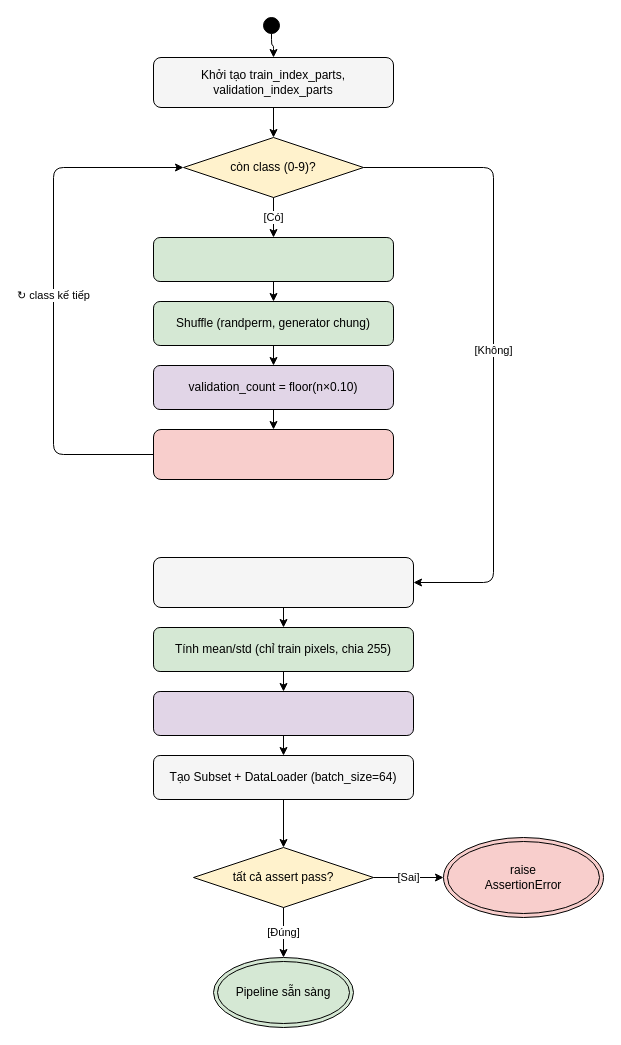
This 621x1045 diagram has some shape labels left out. The box of each missing label's shape, as (x1, y1, x2, y2) in pixels:
Gộp 10 phần + reshuffle train_indices: (152, 556, 414, 608)
Lấy index class này (torch.where): (152, 236, 394, 282)
Tách chỉ số: 600 đầu→val, còn lại→train: (152, 428, 394, 480)
Xây 3 transform: baseline / augmented / eval: (152, 690, 414, 736)
